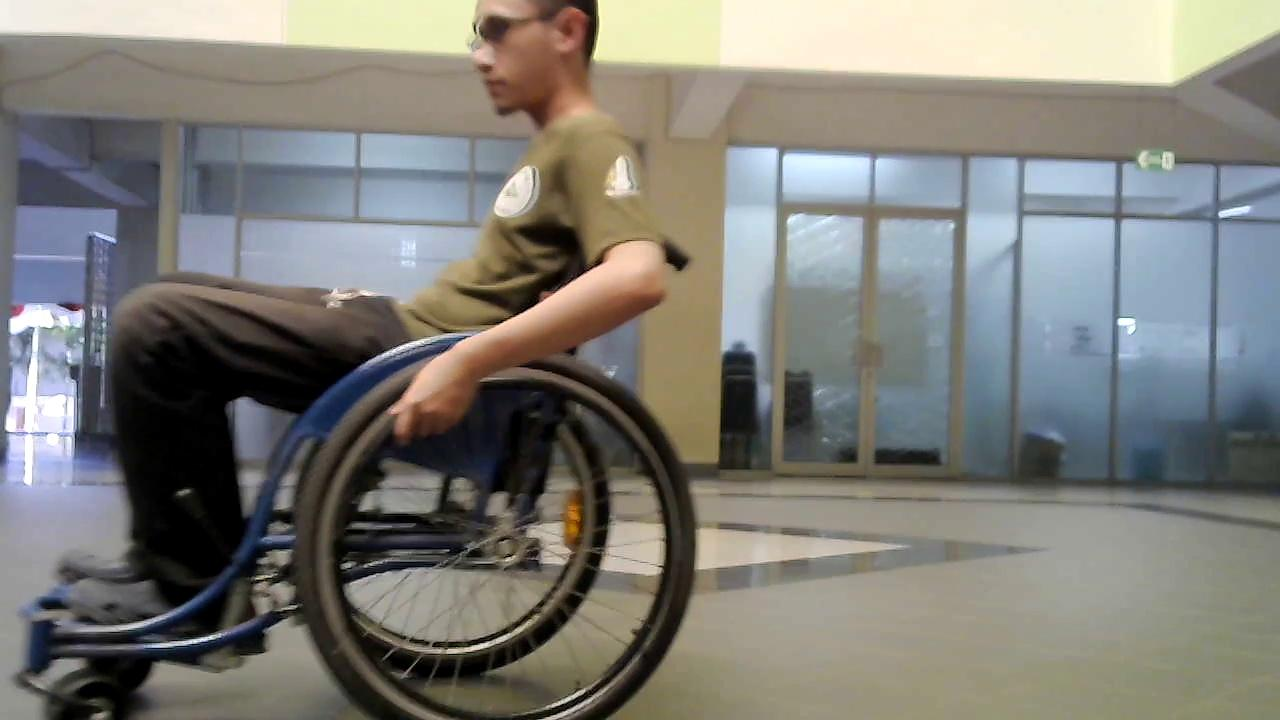person: (72, 7, 687, 618)
wheelchair: (42, 340, 750, 720)
